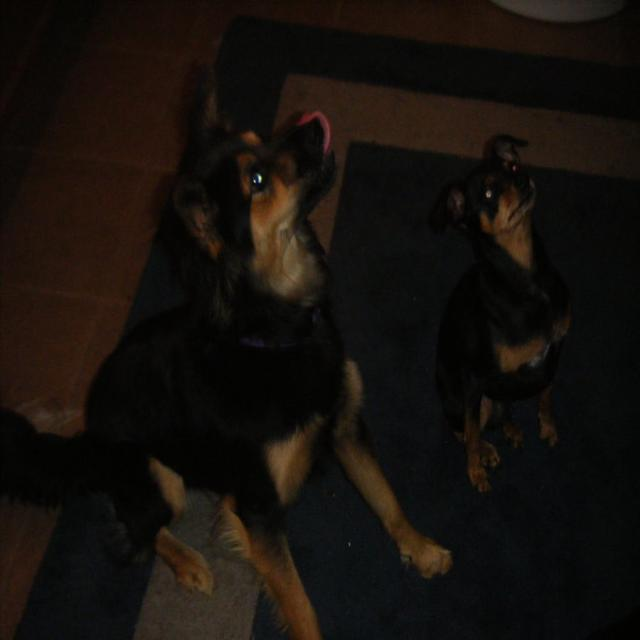dog: (23, 102, 447, 640), (435, 113, 594, 534)
